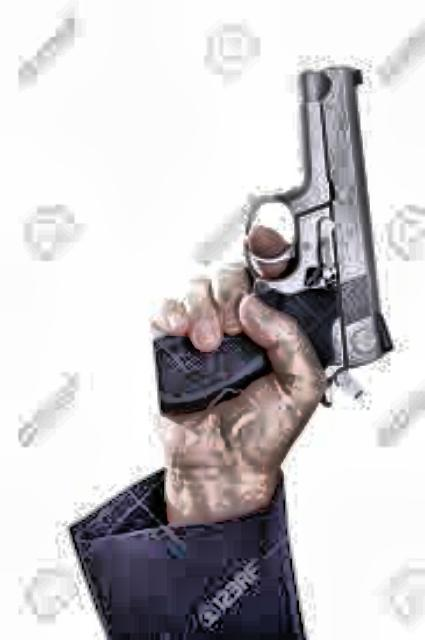pistol: (144, 49, 396, 421)
